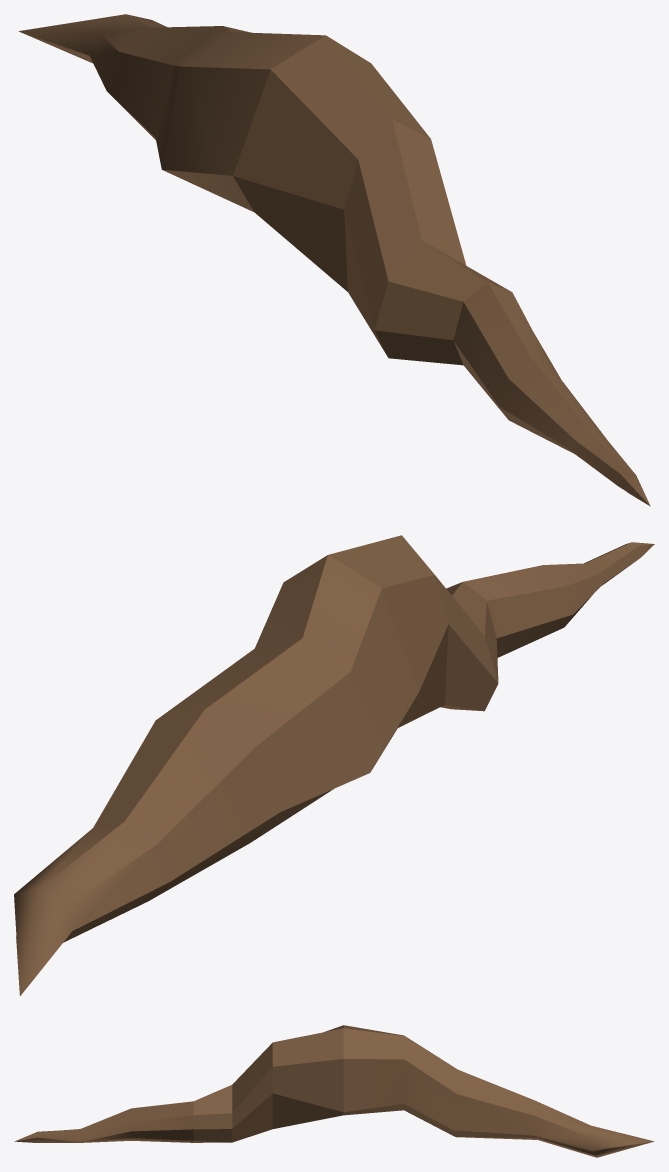
Rendered from Tree_Root3.fbx.
3 views of the same model, one above another, from view 1: azimuth 30°, elevation 25°; view 2: azimuth 150°, elevation 25°; view 3: azimuth 270°, elevation 25° (orthographic). The views are drawn at different scales.
Parts seen in each view (by area): view 1: Roots; view 2: Roots; view 3: Roots.
Boxes of the visible parts, bbox=[...] form: Roots: bbox=[18, 14, 650, 506]; Roots: bbox=[14, 535, 654, 995]; Roots: bbox=[14, 1025, 654, 1157].
Size of the model in its own units: 170 by 204 by 1005.
